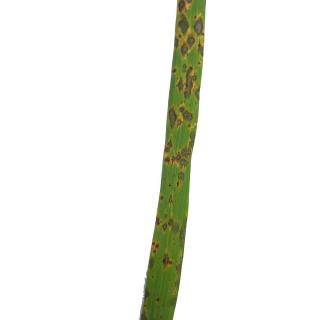Blast: (184, 65, 196, 101), (167, 104, 177, 130), (193, 14, 204, 37), (162, 252, 174, 270), (176, 0, 187, 16), (180, 16, 188, 37), (185, 34, 195, 50), (176, 77, 185, 94), (195, 41, 204, 58), (181, 110, 193, 122), (177, 169, 184, 189), (193, 85, 200, 104), (188, 127, 194, 147), (182, 41, 188, 60), (152, 241, 160, 255), (180, 148, 191, 158), (174, 36, 180, 52), (180, 159, 189, 168), (159, 222, 167, 232), (166, 193, 172, 206), (154, 294, 160, 305), (168, 218, 175, 227), (165, 156, 171, 166), (166, 141, 173, 148), (179, 105, 185, 113), (184, 0, 193, 5), (176, 152, 181, 160), (164, 148, 170, 154), (178, 119, 181, 130), (172, 156, 176, 162), (173, 69, 177, 74)
